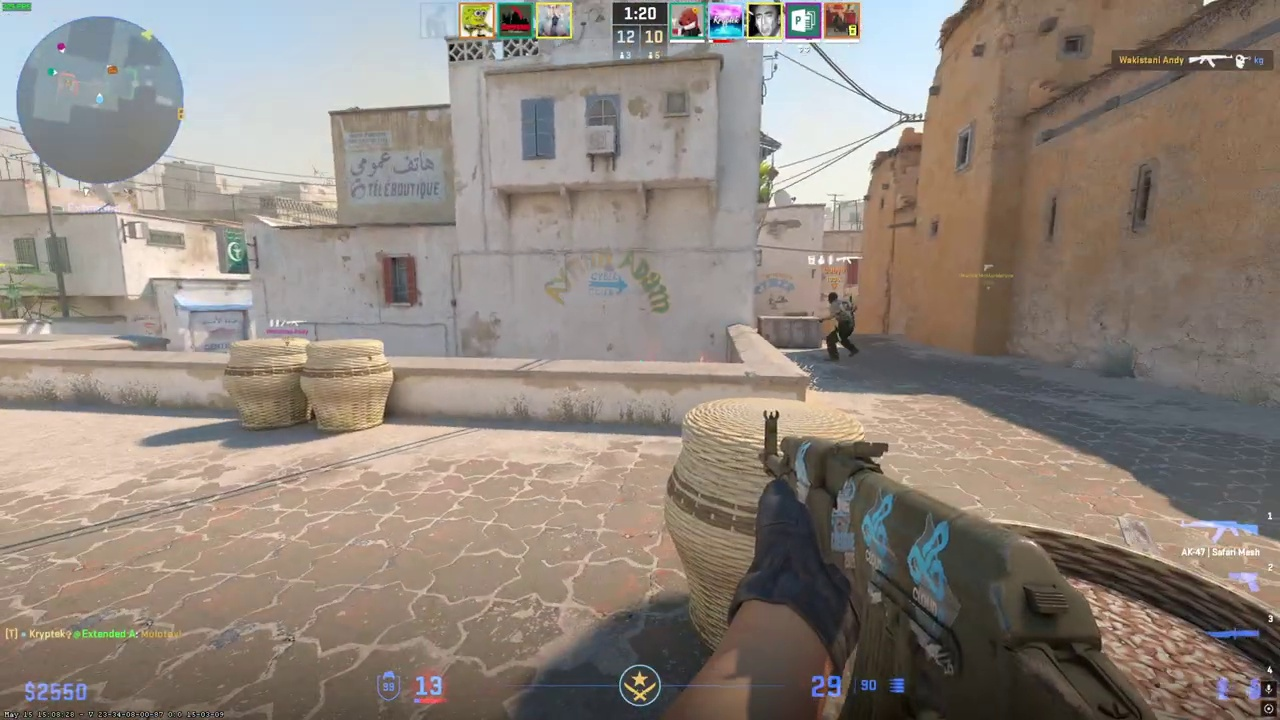Terrorist: (822, 292, 858, 361)
